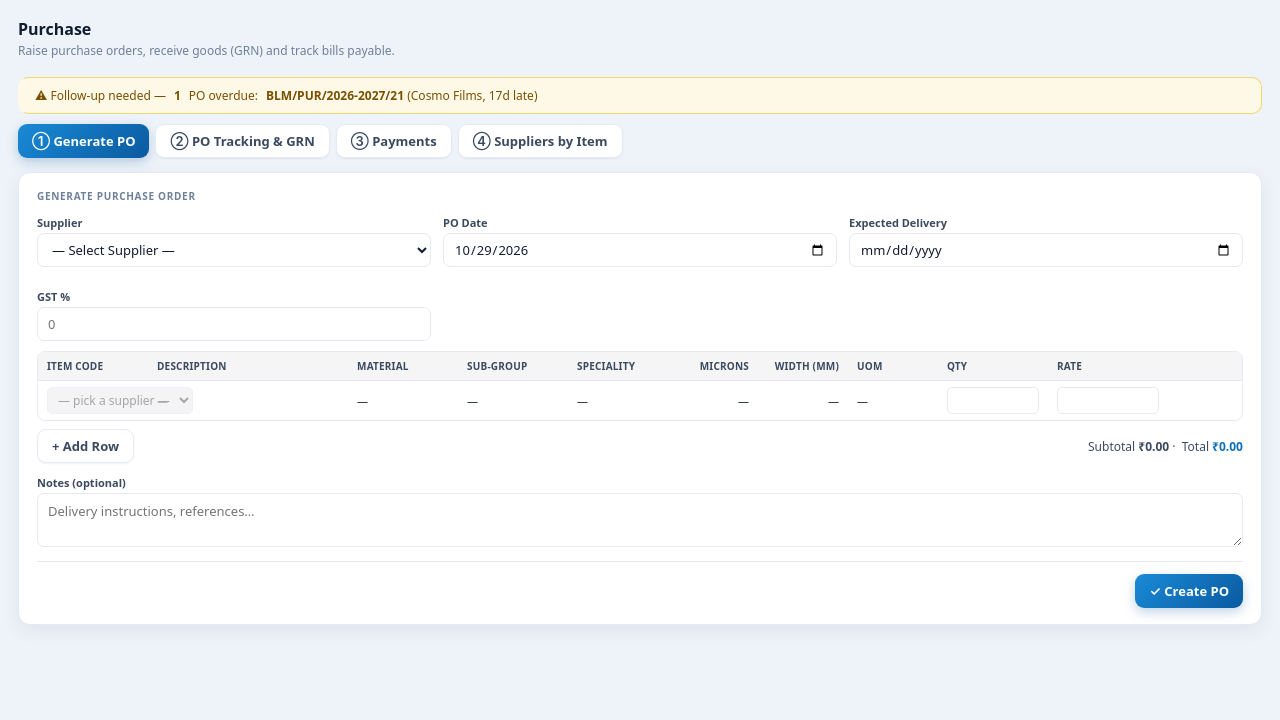
it: Issues 17.10 §7 — GRN Entry: radio selection, actions above the table › the toolbar’s Link GRN opens the link panel under that PO, with Force Close kept in it
The width and height of the screenshot is (1280, 720).
Click the button "② PO Tracking & GRN": coordinates (243, 141) [156,124,330,158]
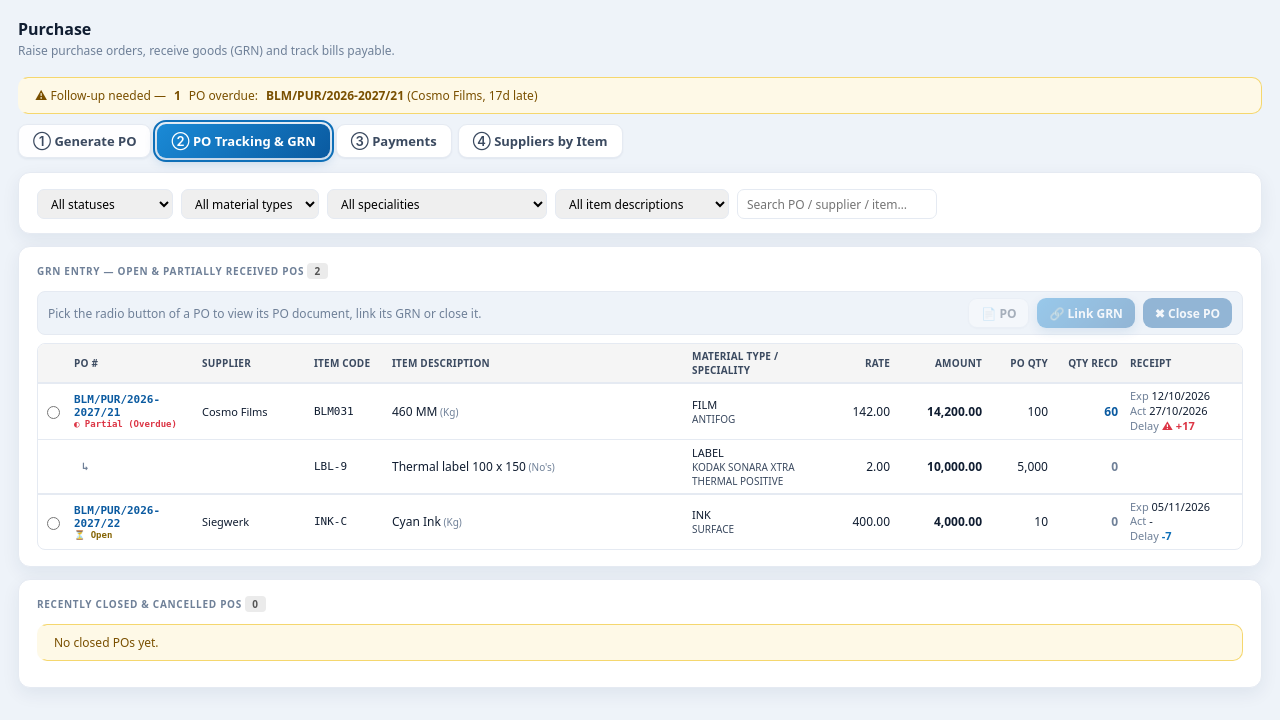
Click the radio button named "Select PO BLM/PUR/2026-2027/21": coordinates (53, 412) [46,406,60,419]
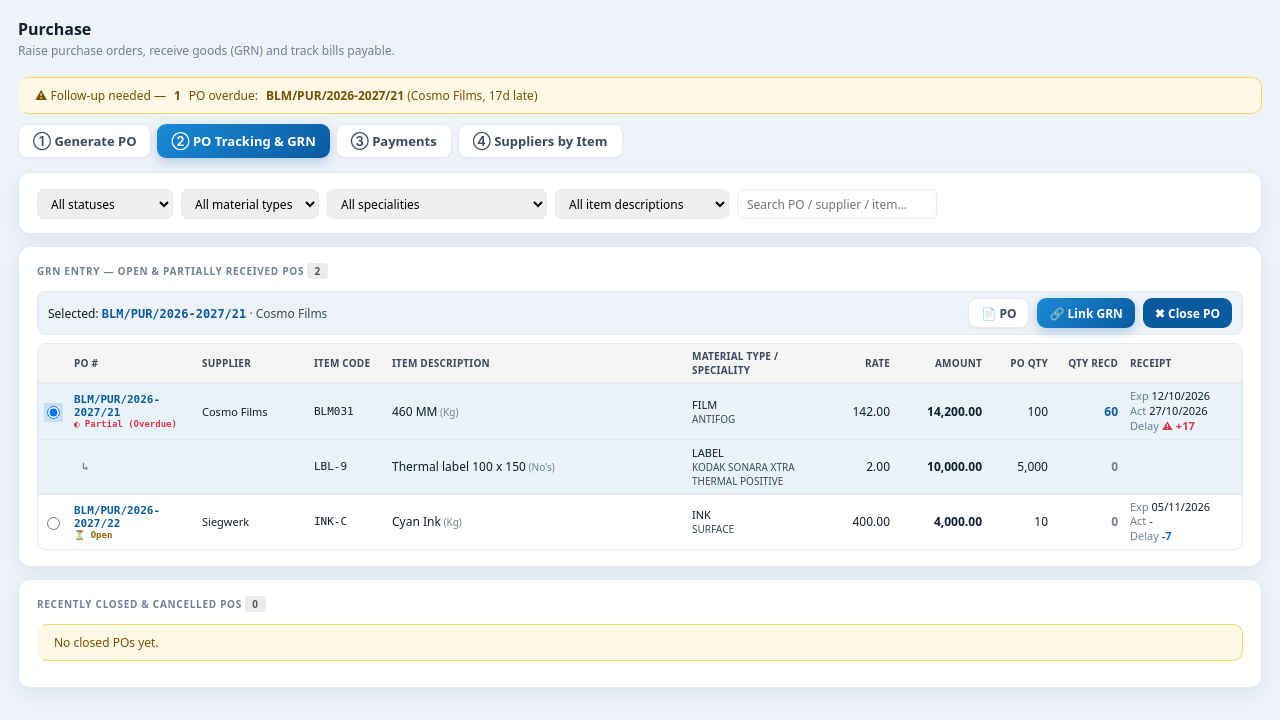
Click the button "🔗 Link GRN": coordinates (1086, 313) [1038,298,1135,328]
(page scrolled)
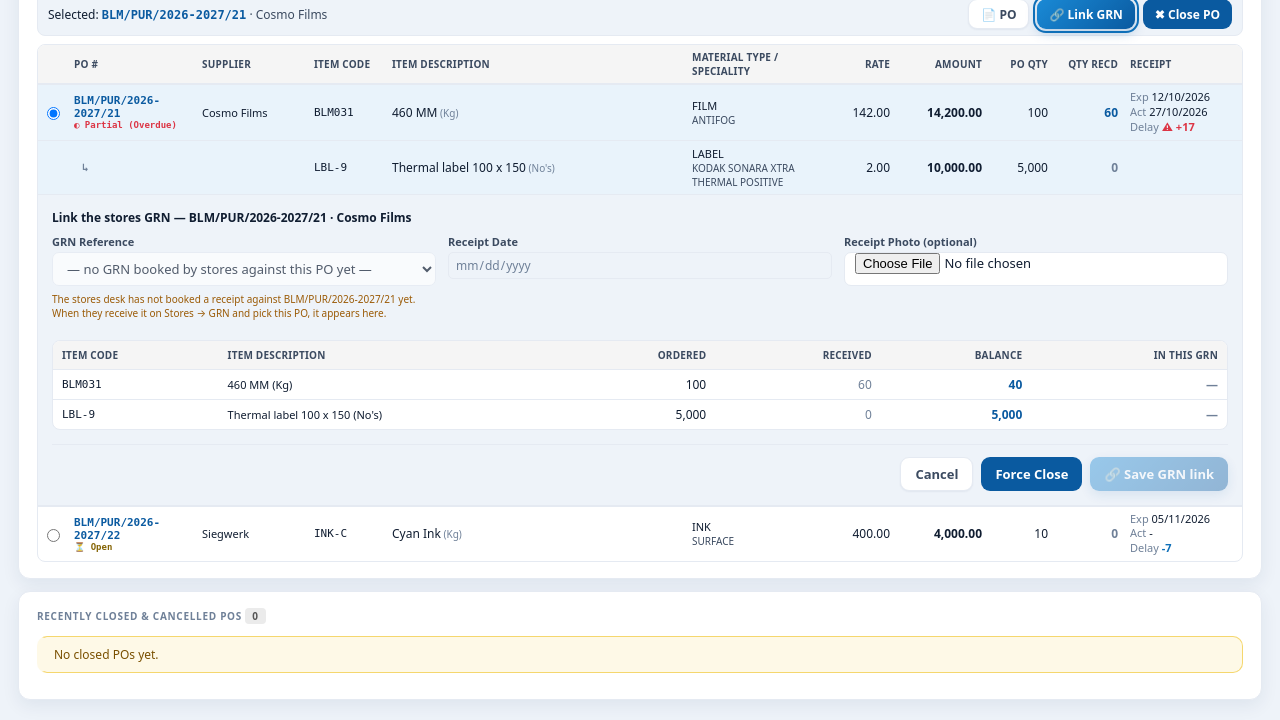
Expected: the dropdown named "GRN Reference" is shown, [52,252,436,286]
Expected: the button "Force Close" is shown, [981,456,1082,490]
